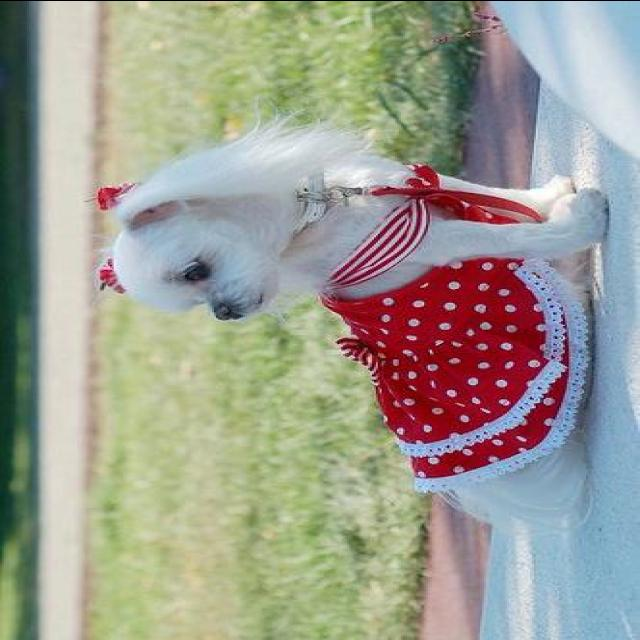maltese_dog: (104, 117, 605, 532)
